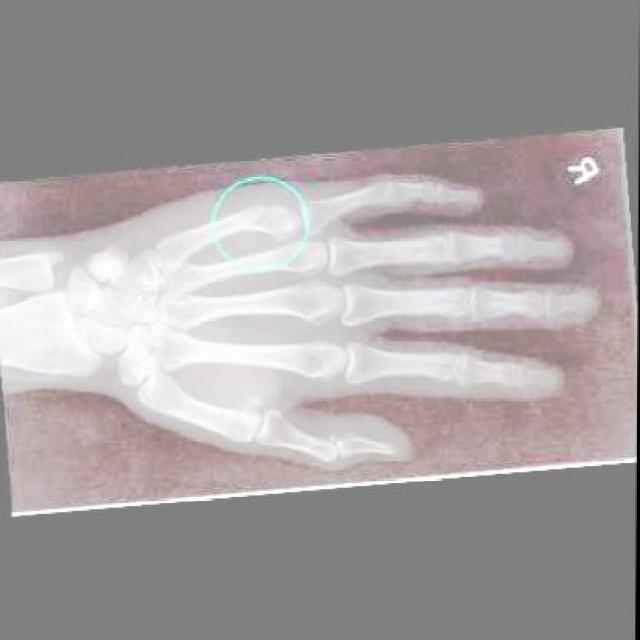Fracture: (241, 188, 302, 247)
